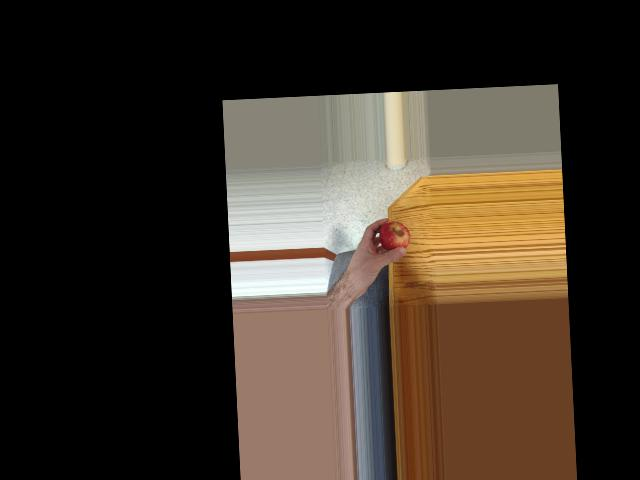apple: (377, 217, 410, 257)
